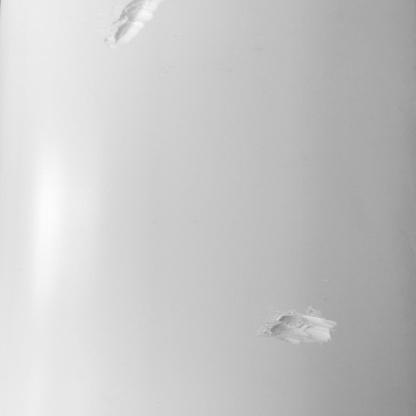sunshang: (261, 302, 344, 351), (101, 3, 167, 42)
